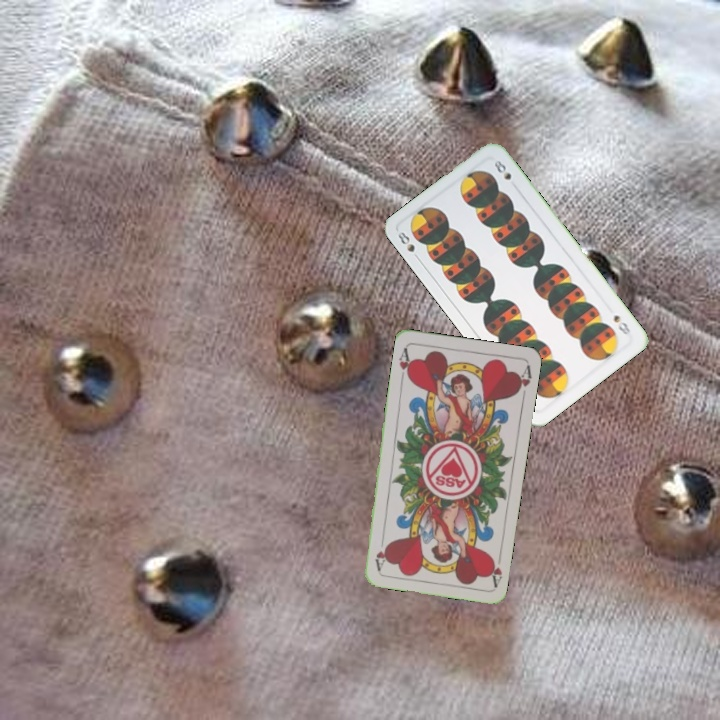HA: (395, 343, 415, 384), (485, 548, 505, 589)
S8: (394, 227, 423, 263), (609, 310, 633, 337)
